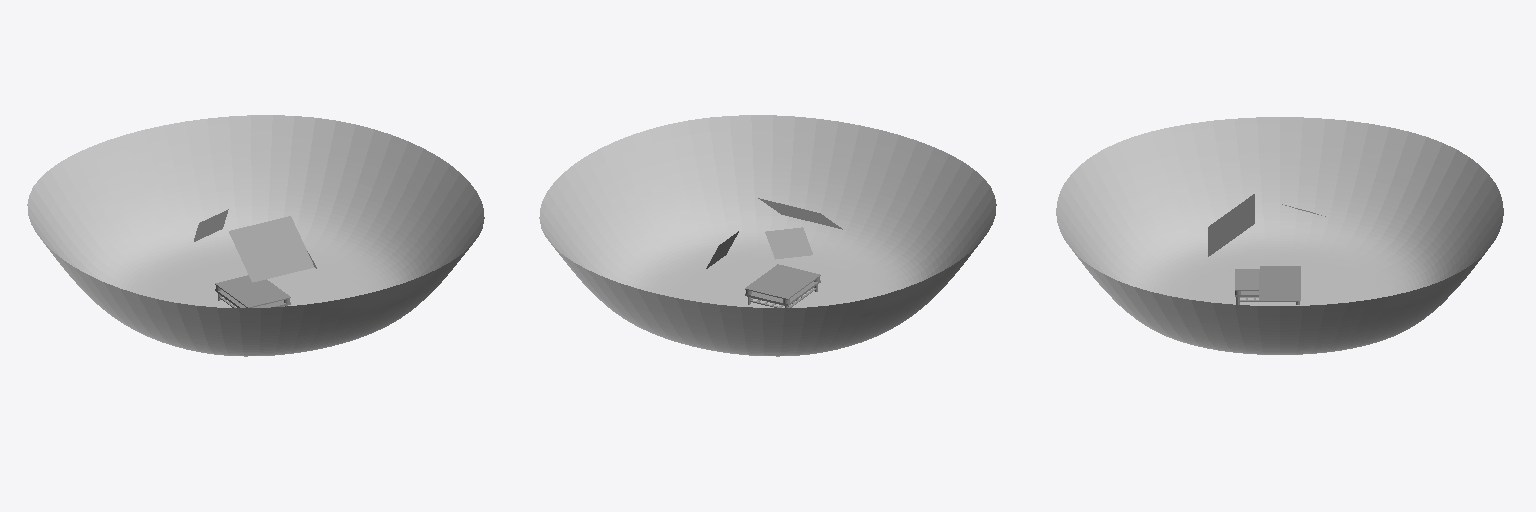
The model's file is Table.obj.
The picture shows the model from 3 angles: view 1: azimuth 30°, elevation 25°; view 2: azimuth 150°, elevation 25°; view 3: azimuth 270°, elevation 25°; orthographic projection.
Visible parts, largest first — view 1: Plane.003_Plane.007, Plane.004_Plane.008, Meja_Cube.041; view 2: Plane.003_Plane.007, Meja_Cube.041, Plane.006_Plane.012, Plane.004_Plane.008; view 3: Plane.003_Plane.007, Plane.005_Plane.011, Plane.004_Plane.008, Meja_Cube.041.
Part boxes in pixels (bbox=[...]): Plane.003_Plane.007: bbox=[27, 115, 484, 356]; Plane.004_Plane.008: bbox=[229, 216, 314, 282]; Meja_Cube.041: bbox=[215, 275, 290, 307]; Plane.003_Plane.007: bbox=[539, 115, 996, 356]; Meja_Cube.041: bbox=[745, 264, 820, 307]; Plane.006_Plane.012: bbox=[765, 227, 812, 259]; Plane.004_Plane.008: bbox=[758, 198, 842, 229]; Plane.003_Plane.007: bbox=[1056, 117, 1503, 354]; Plane.005_Plane.011: bbox=[1259, 266, 1300, 300]; Plane.004_Plane.008: bbox=[1208, 194, 1254, 256]; Meja_Cube.041: bbox=[1235, 269, 1299, 304].
Bounding box in the file's own units: 40.39 × 8.82 × 40.39.